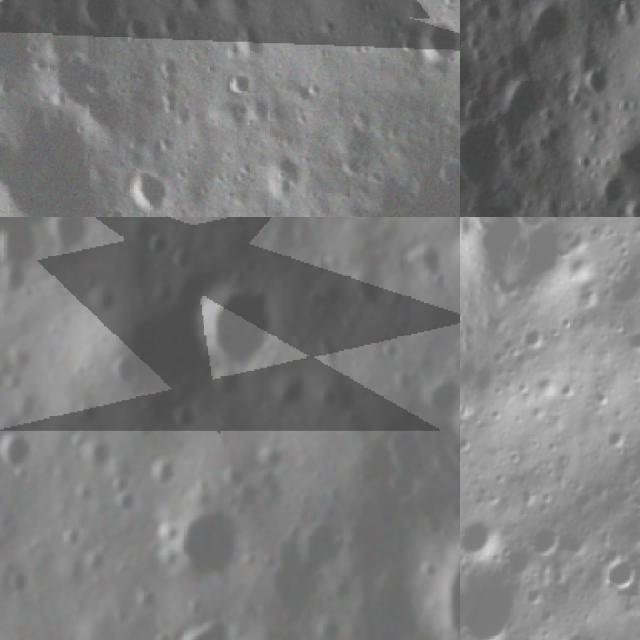crater: (0, 109, 108, 217), (188, 276, 280, 401), (265, 514, 357, 618), (162, 512, 245, 588), (460, 559, 534, 640), (460, 113, 522, 198), (491, 70, 559, 134), (121, 159, 175, 217), (601, 112, 640, 191), (412, 10, 460, 70), (592, 541, 640, 601), (165, 610, 250, 640), (460, 506, 500, 569), (523, 0, 574, 49), (413, 370, 460, 421), (516, 313, 562, 361), (526, 516, 568, 561), (575, 64, 617, 108), (0, 427, 36, 478), (592, 174, 632, 213), (78, 0, 123, 30), (120, 8, 154, 42), (226, 67, 260, 101), (624, 321, 640, 361)
